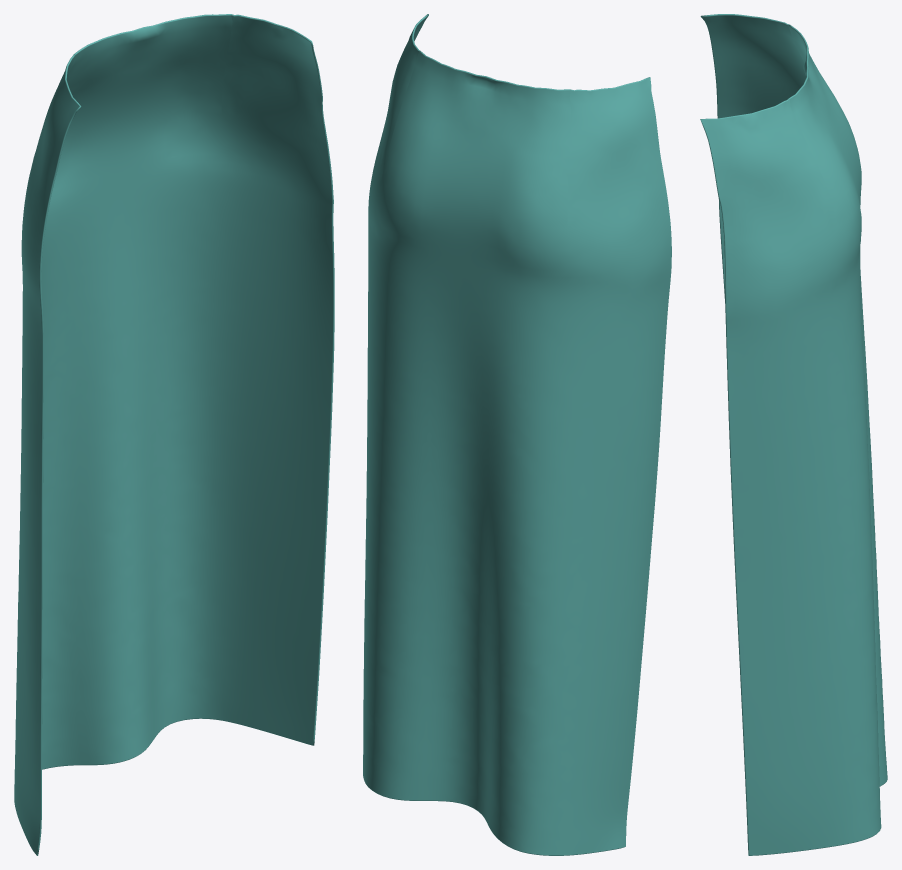
3 renders of one model, left to right at view 1: azimuth 30°, elevation 25°; view 2: azimuth 150°, elevation 25°; view 3: azimuth 270°, elevation 25°, orthographic. The views are drawn at different scales.
Parts seen in each view (by area): view 1: Object_11; view 2: Object_11; view 3: Object_11.
Part boxes in pixels (x1,y1,x2,y2): Object_11: [14, 14, 334, 855]; Object_11: [363, 14, 671, 855]; Object_11: [700, 14, 887, 855].
Bounding box in the file's own units: 0.3413 × 0.8521 × 0.1857.
